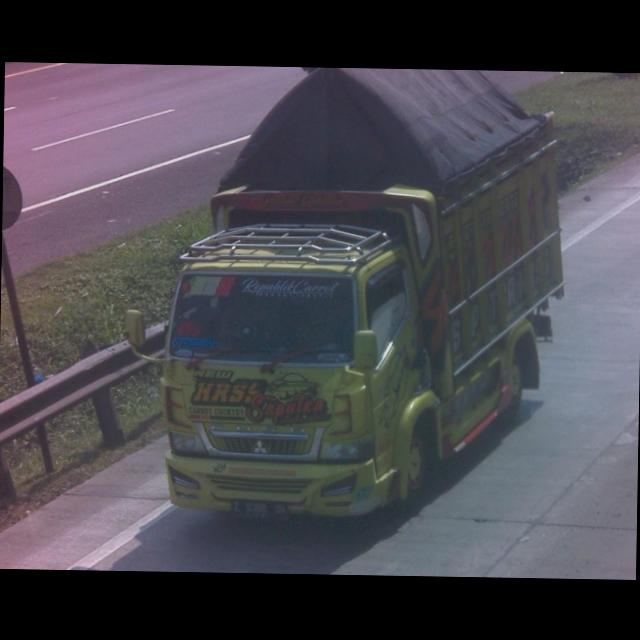plate: (228, 495, 296, 527)
